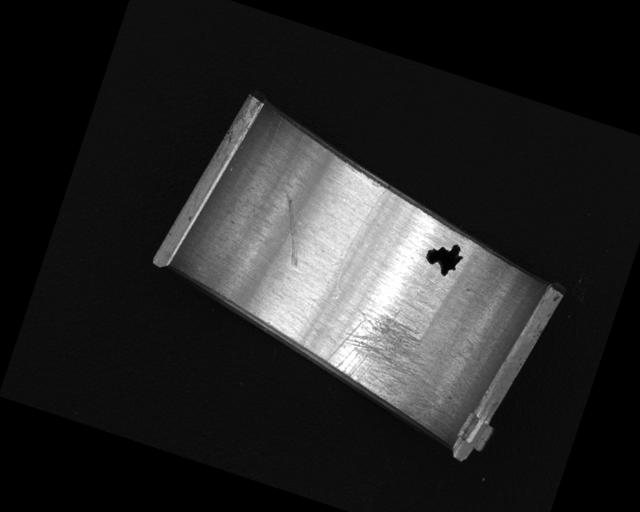blot: (421, 235, 467, 280)
nick: (327, 180, 388, 303), (263, 189, 319, 268)
scratch: (316, 291, 458, 425)
